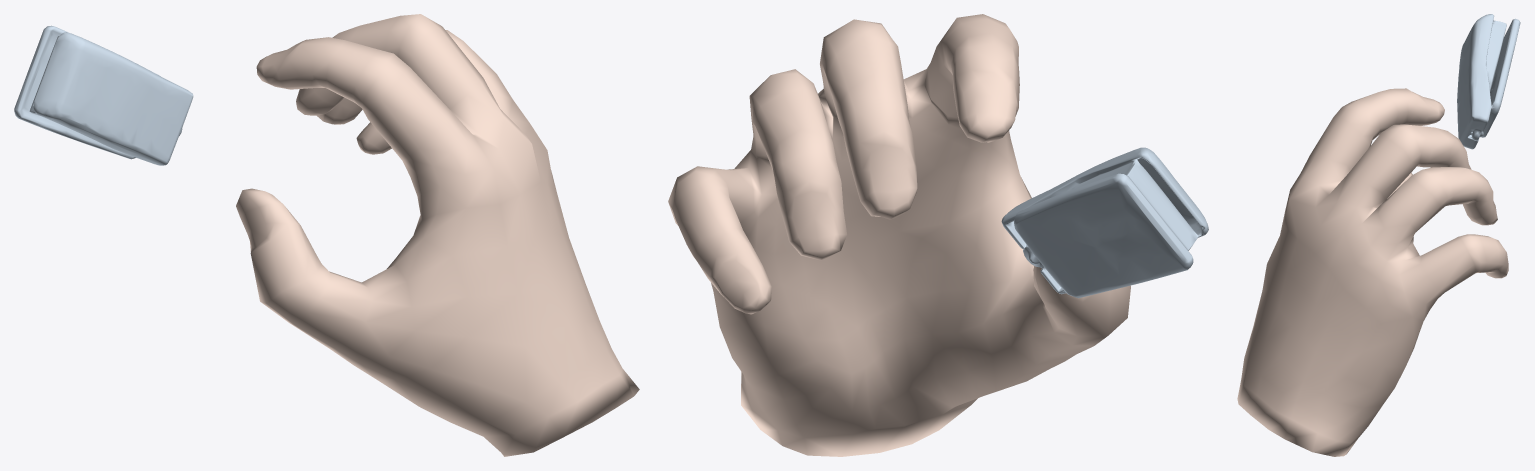
File: sequence.glb
3 views of the same model, side by side, from view 1: azimuth 30°, elevation 25°; view 2: azimuth 150°, elevation 25°; view 3: azimuth 270°, elevation 25° (orthographic). The views are drawn at different scales.
Parts seen in each view (by area): view 1: 3510; view 2: 3510; view 3: 3510.
Boxes of the visible parts, box(x1,y1,x2,y2) form: 3510: box(14, 14, 639, 456); 3510: box(668, 14, 1208, 456); 3510: box(1237, 14, 1520, 456).
Bounding box in the file's own units: 0.1805 × 0.1435 × 0.1218.
